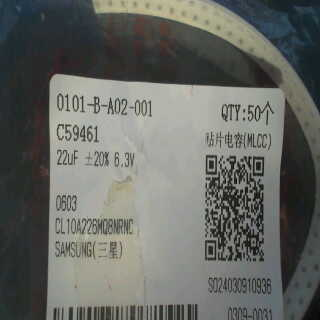22uF: (53, 147, 82, 168)
